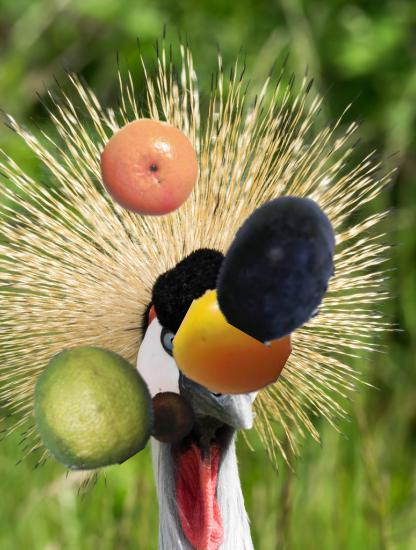Blueberry: (206, 193, 356, 343)
Cherry: (179, 286, 290, 397)
Grapefruit: (99, 118, 200, 219)
Limes: (28, 344, 155, 471)
Pear: (142, 391, 196, 445)
